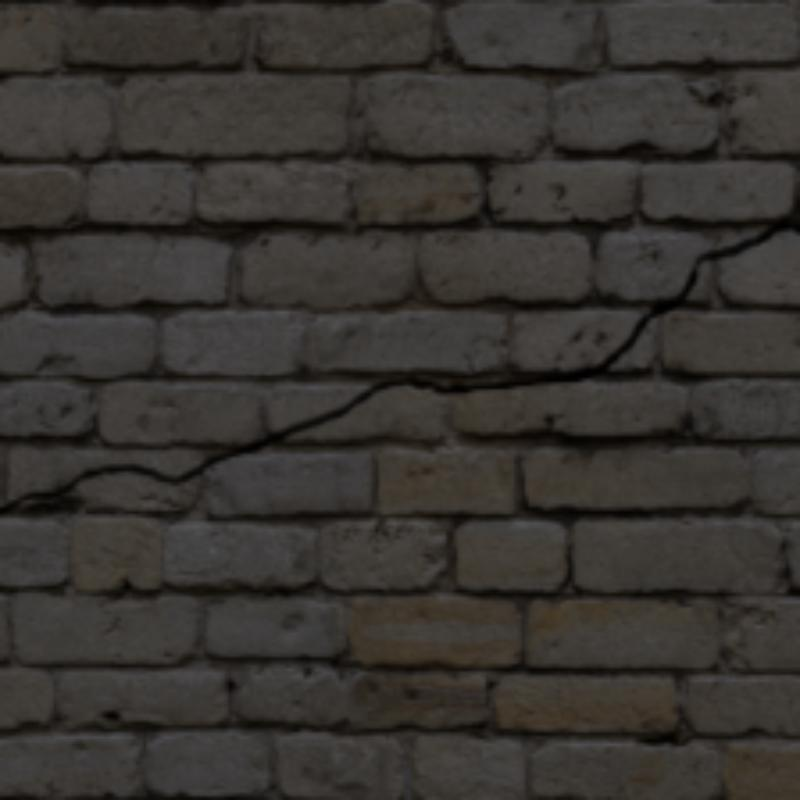pothole: (82, 221, 796, 482)
